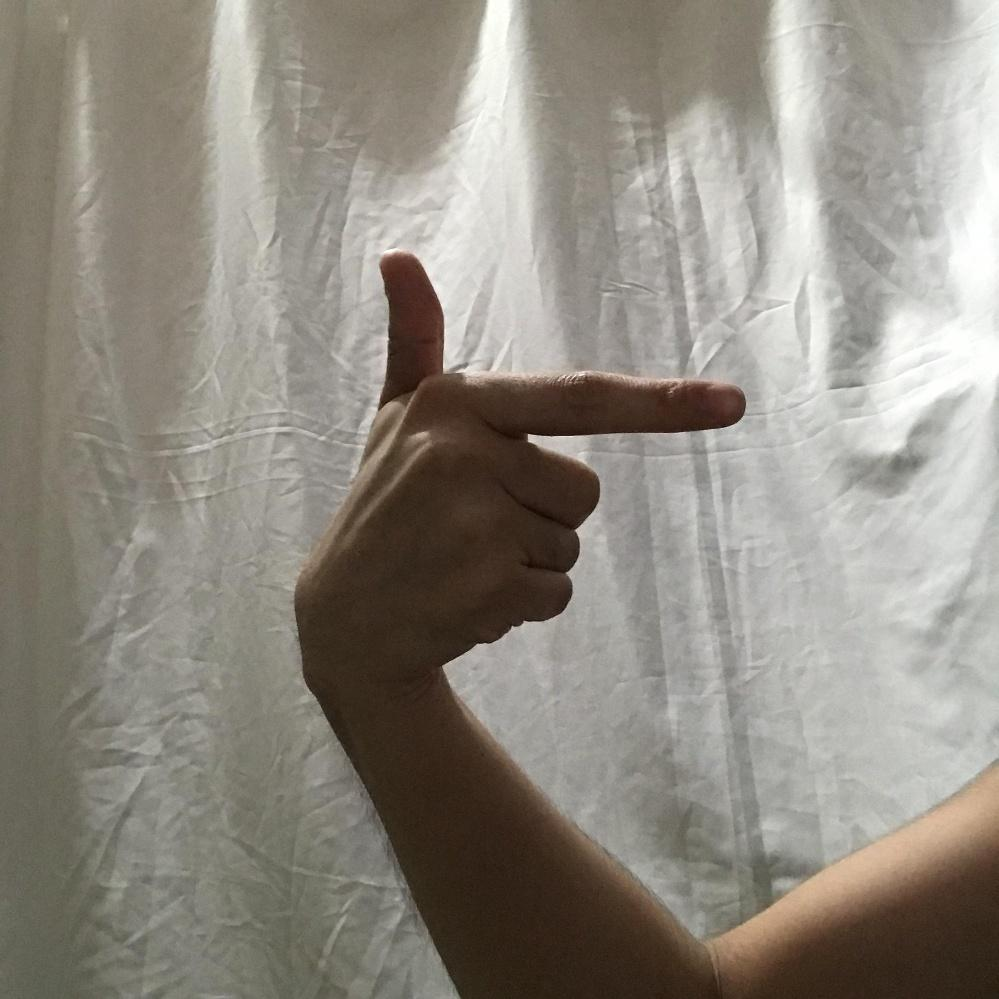g: (303, 245, 746, 676)
